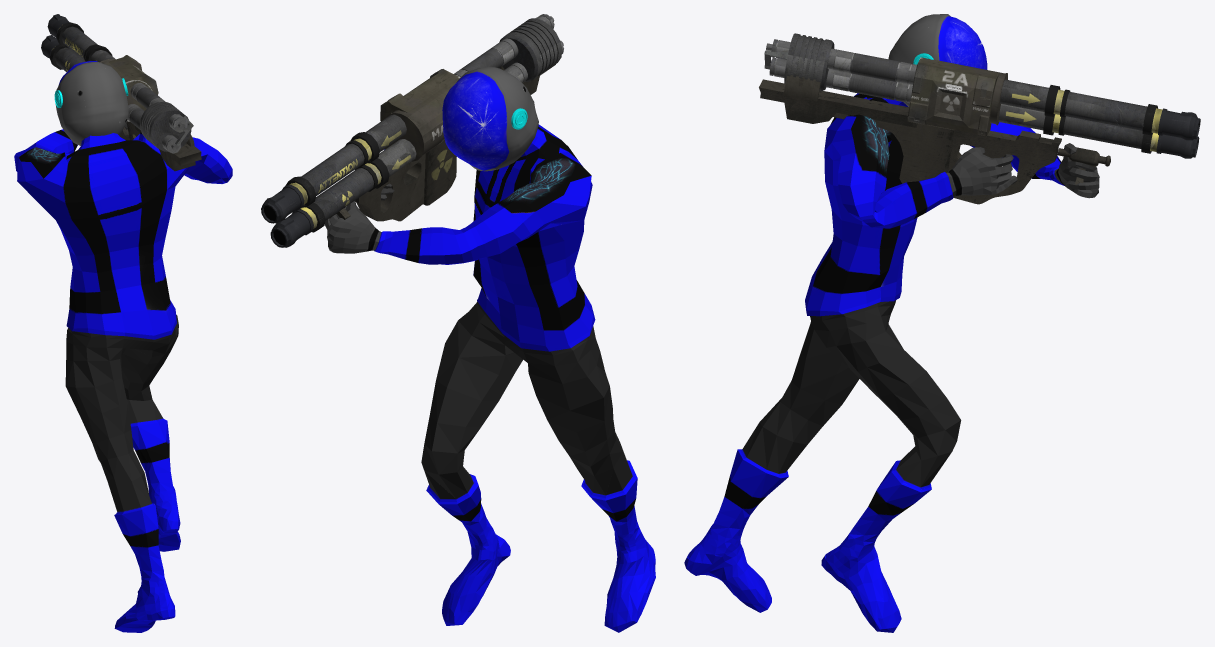
3 views of the same model, side by side, from view 1: azimuth 30°, elevation 25°; view 2: azimuth 150°, elevation 25°; view 3: azimuth 270°, elevation 25° (orthographic). The views are drawn at different scales.
Parts seen in each view (by area): view 1: Brazos2, Piernas1, group1_polySurface5, Cabeza1; view 2: Piernas1, Brazos2, group1_polySurface5, Cabeza1; view 3: group1_polySurface5, Piernas1, Brazos2, Cabeza1.
Part boxes in pixels (<box>): Brazos2: <box>14,123,232,339</box>; Piernas1: <box>65,315,180,632</box>; group1_polySurface5: <box>41,14,201,171</box>; Cabeza1: <box>54,61,128,145</box>; Piernas1: <box>421,301,655,632</box>; Brazos2: <box>325,124,595,351</box>; group1_polySurface5: <box>261,14,563,247</box>; Cabeza1: <box>442,67,538,171</box>; group1_polySurface5: <box>759,33,1200,204</box>; Piernas1: <box>684,300,961,632</box>; Brazos2: <box>805,93,1099,316</box>; Cabeza1: <box>888,14,987,106</box>.
Bounding box in the file's own units: 68.05 × 174 × 133.
